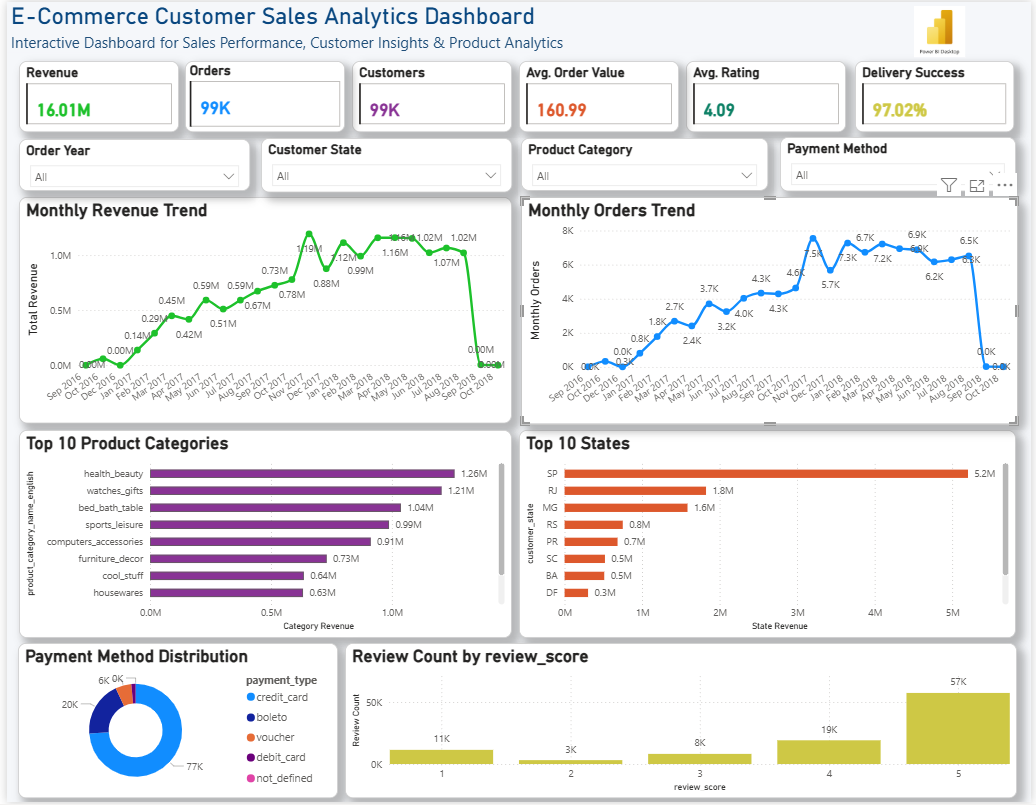

Layout of this report page (visuals, bound fields, positions):
{"tool":"powerbi","page":{"name":"Page 1","canvas":[1280,1000],"ordinal":0},"visuals":[{"type":"cardVisual","title":"Revenue","fields":{"Data":["Metrics.Total Revenue"]},"box":[15,73.8,200,88.8],"z":0},{"type":"cardVisual","title":"Customers","fields":{"Data":["Metrics.Total Customers"]},"box":[431.2,73.8,200,88.8],"z":1000},{"type":"cardVisual","title":"Avg. Rating","fields":{"Data":["Metrics.Average Review Score"]},"box":[848.8,73.8,200,88.8],"z":2000},{"type":"cardVisual","title":"Orders","fields":{"Data":["Metrics.Total Orders"]},"box":[222.5,73.8,200,88.8],"z":3000},{"type":"cardVisual","title":"Avg. Order Value","fields":{"Data":["Metrics.Average Order Value"]},"box":[640,73.8,200,88.8],"z":4000},{"type":"cardVisual","title":"Delivery Success","fields":{"Data":["Metrics.Delivery Success Rate"]},"box":[1060,73.8,198.8,88.8],"z":5000},{"type":"lineChart","title":"Monthly Revenue Trend","fields":{"Category":["orders.Month Year"],"Y":["Metrics.Total Revenue"]},"box":[15,243.8,616.2,282.5],"z":6000},{"type":"lineChart","title":"Monthly Orders Trend","fields":{"Category":["orders.Month Year"],"Y":["Metrics.Monthly Orders"]},"box":[642.9,243.8,620.7,284.5],"z":7000},{"type":"clusteredBarChart","title":"Top 10 Product Categories","fields":{"Category":["products.product_category_name_english"],"Y":["Metrics.Category Revenue"]},"box":[15,535,616.2,260],"z":8000},{"type":"clusteredBarChart","title":"Top 10 States","fields":{"Category":["customers.customer_state"],"Y":["Metrics.State Revenue"]},"box":[640,535,621.2,260],"z":9000},{"type":"donutChart","title":"Payment Method Distribution","fields":{"Category":["payments.payment_type"],"Y":["Metrics.Payment Count"]},"box":[14.3,801.4,400,194.3],"z":10000},{"type":"clusteredColumnChart","fields":{"Category":["reviews.review_score"],"Y":["Metrics.Review Count"]},"box":[422.9,801.4,840,194.3],"z":11000},{"type":"slicer","title":"Order Year","fields":{"Values":["orders.order_year"]},"box":[15,171.2,288.8,65],"z":12000},{"type":"slicer","title":"Customer State","fields":{"Values":["customers.customer_state"]},"box":[317.5,170,313.8,67.5],"z":13000},{"type":"slicer","title":"Product Category","fields":{"Values":["products.product_category_name_english"]},"box":[642.5,170,308.8,66.2],"z":14000},{"type":"slicer","title":"Payment Method","fields":{"Values":["payments.payment_type"]},"box":[966.2,168.8,295,67.5],"z":15000},{"type":"textbox","title":"E-Commerce Customer Sales Analytics Dashboard","box":[0,0,936.2,62.5],"z":16000},{"type":"image","box":[1113.8,0,103.8,73.8],"z":16001}]}

Visuals, with their boxes in screenshot pixels (x1, y1, x2, y2), scaled from the page's 1280x1000 canvas onto the 1036x805 screenshot:
"Revenue" cardVisual: (12, 59, 174, 131)
"Customers" cardVisual: (349, 59, 511, 131)
"Avg. Rating" cardVisual: (687, 59, 849, 131)
"Orders" cardVisual: (180, 59, 342, 131)
"Avg. Order Value" cardVisual: (518, 59, 680, 131)
"Delivery Success" cardVisual: (858, 59, 1019, 131)
"Monthly Revenue Trend" lineChart: (12, 196, 511, 424)
"Monthly Orders Trend" lineChart: (520, 196, 1023, 425)
"Top 10 Product Categories" clusteredBarChart: (12, 431, 511, 640)
"Top 10 States" clusteredBarChart: (518, 431, 1021, 640)
"Payment Method Distribution" donutChart: (12, 645, 335, 802)
clusteredColumnChart - reviews.review_score x Metrics.Review Count: (342, 645, 1022, 802)
"Order Year" slicer: (12, 138, 246, 190)
"Customer State" slicer: (257, 137, 511, 191)
"Product Category" slicer: (520, 137, 770, 190)
"Payment Method" slicer: (782, 136, 1021, 190)
"E-Commerce Customer Sales Analytics Dashboard" textbox: (0, 0, 758, 50)
image: (901, 0, 985, 59)
